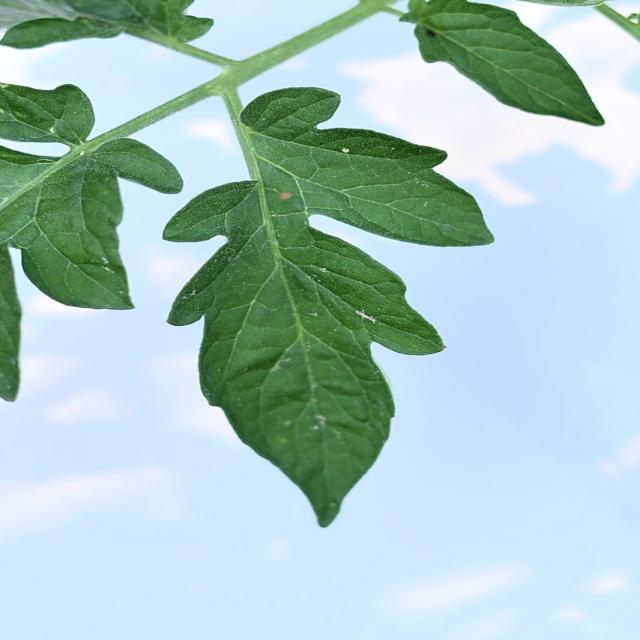healthy: (156, 86, 497, 528), (394, 0, 636, 128)
